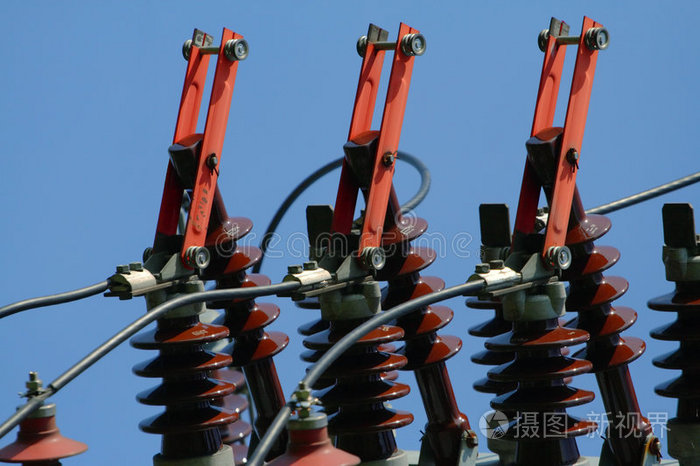insulator: (467, 291, 597, 444), (375, 215, 464, 367), (203, 218, 293, 367), (131, 324, 242, 436), (564, 219, 645, 372), (307, 324, 413, 435), (650, 288, 700, 398)
